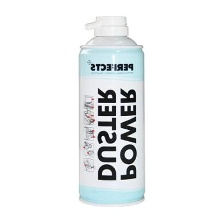aerosol_cans: (74, 8, 150, 209)
